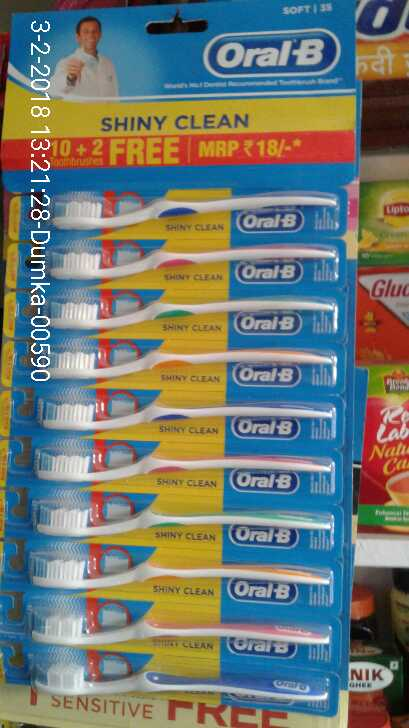oralb: (48, 172, 354, 227), (45, 230, 351, 285), (40, 280, 346, 335), (28, 327, 334, 382), (31, 385, 337, 440), (35, 437, 341, 492), (24, 490, 330, 545), (33, 541, 339, 596), (28, 592, 334, 647), (29, 648, 335, 703)
